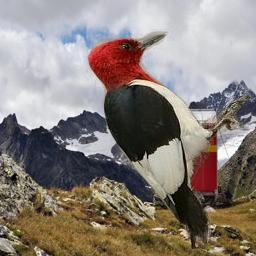Woodpecker: (85, 29, 252, 249)
